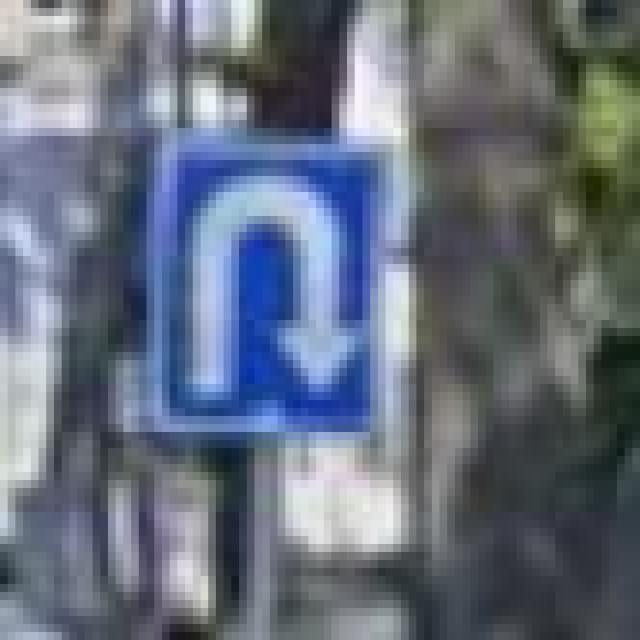traffic sign: (146, 136, 378, 432)
